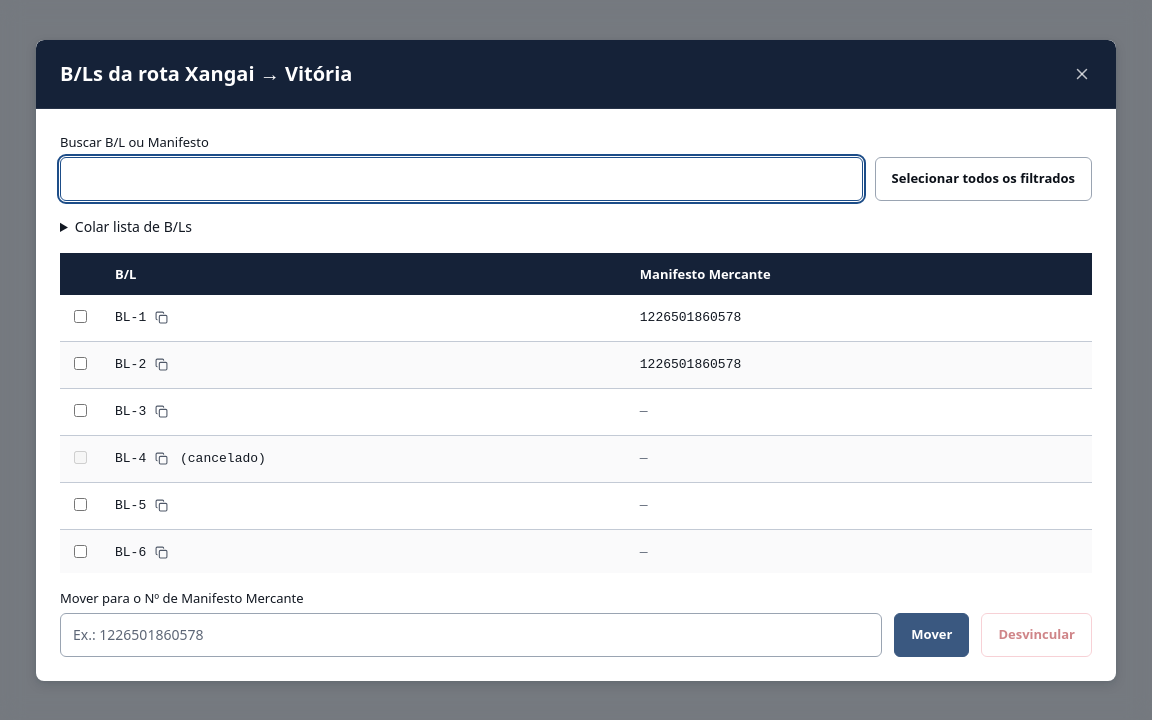
it: número fora do formato não habilita Mover
This screenshot has width=1152, height=720.
Click the checkbox named "Selecionar BL-1" at (80, 316), box [74, 310, 87, 322]
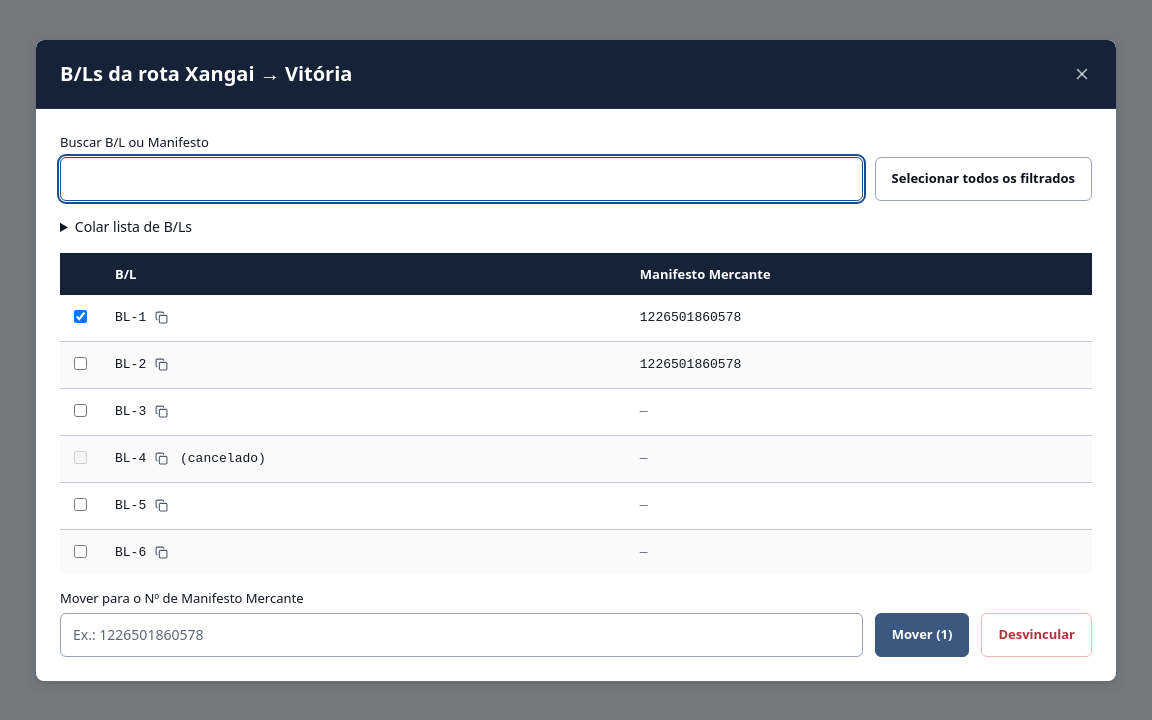
Type "123" into the field labelled "Mover para o Nº de Manifesto Mercante" at (461, 634), box [60, 612, 863, 656]
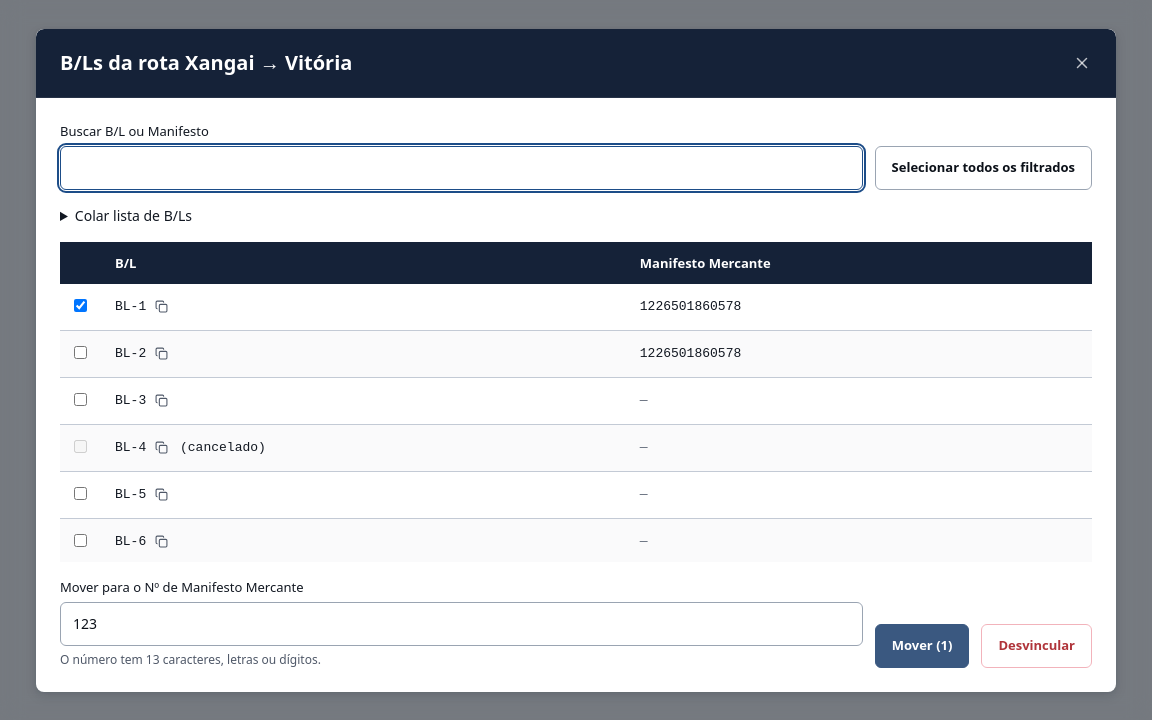
Expected: the button "Mover (1)" is disabled, [875, 624, 969, 668]
Expected: the text "O número tem 13 caracteres, letras ou dígitos." is shown, [60, 650, 321, 668]
